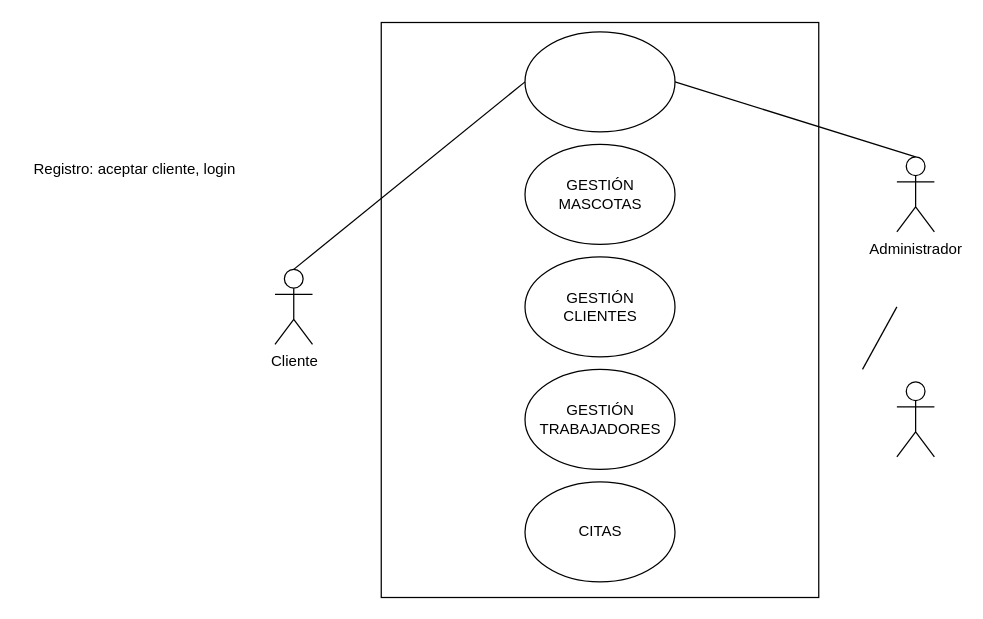
Some shapes in this 983 by 619 pixel diagram are drawn without their labels. Here are the shapes that lost their labels. From the top down, the centre of each, then its label:
(x=599, y=81): REGISTRASE
(x=915, y=419): Trabajador
